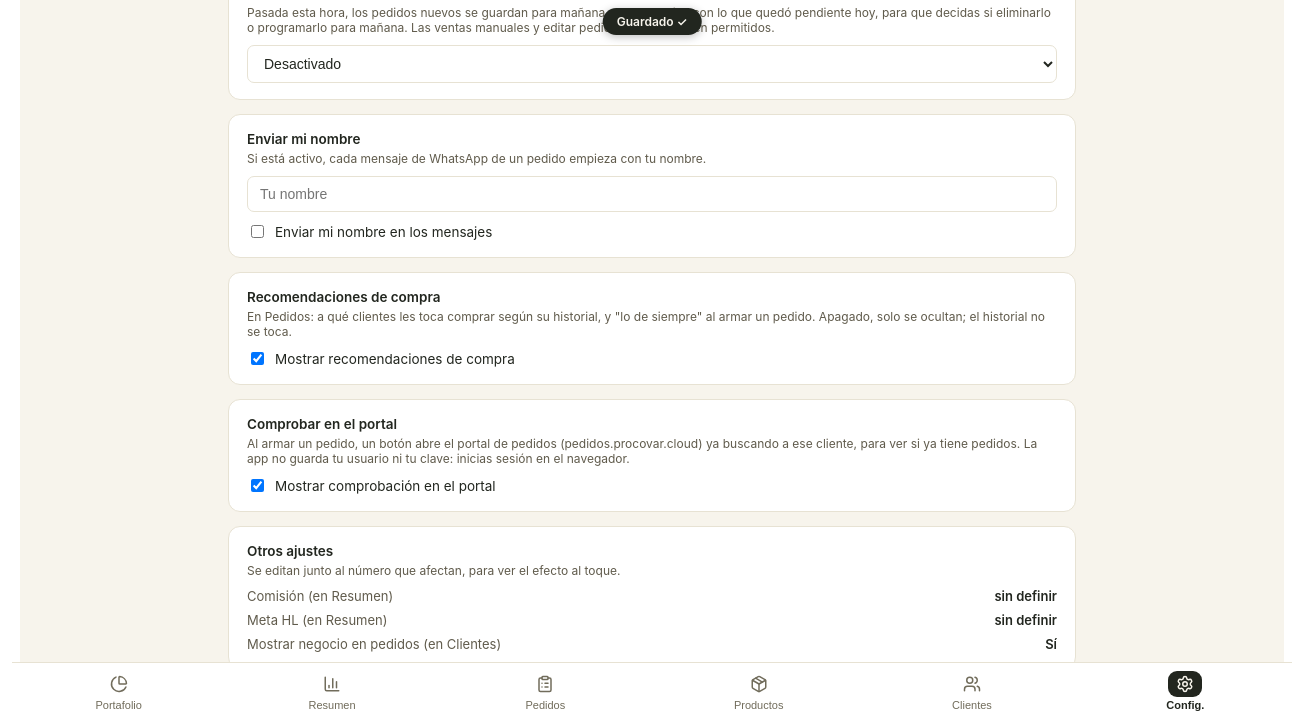
Interruptor de recomendaciones de compra › apagarlo desde Configuración lo guarda y quita la tarjeta de Pedidos
This screenshot has width=1304, height=718.
(page scrolled)
Click the checkbox labelled "Mostrar recomendaciones de compra".
click(258, 358)  # box [251, 352, 264, 365]
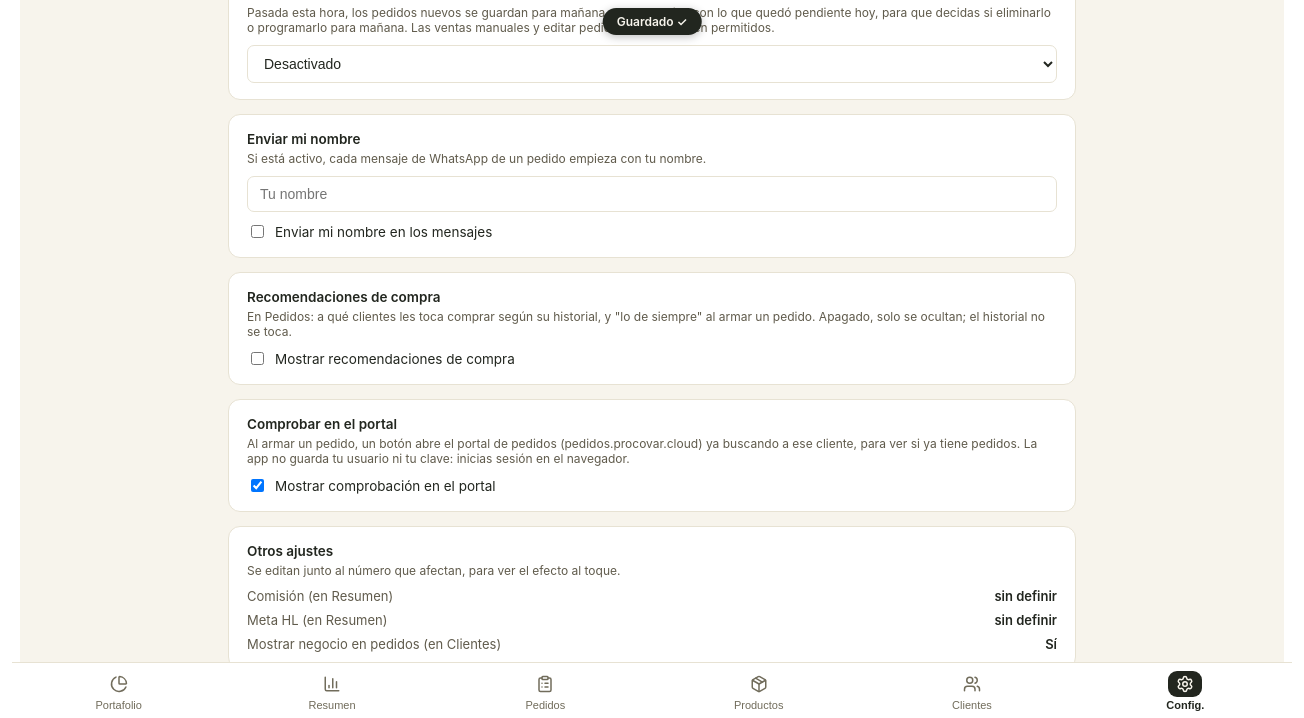
Click the button "Pedidos".
click(545, 690)  # box [439, 663, 652, 717]
(page scrolled)
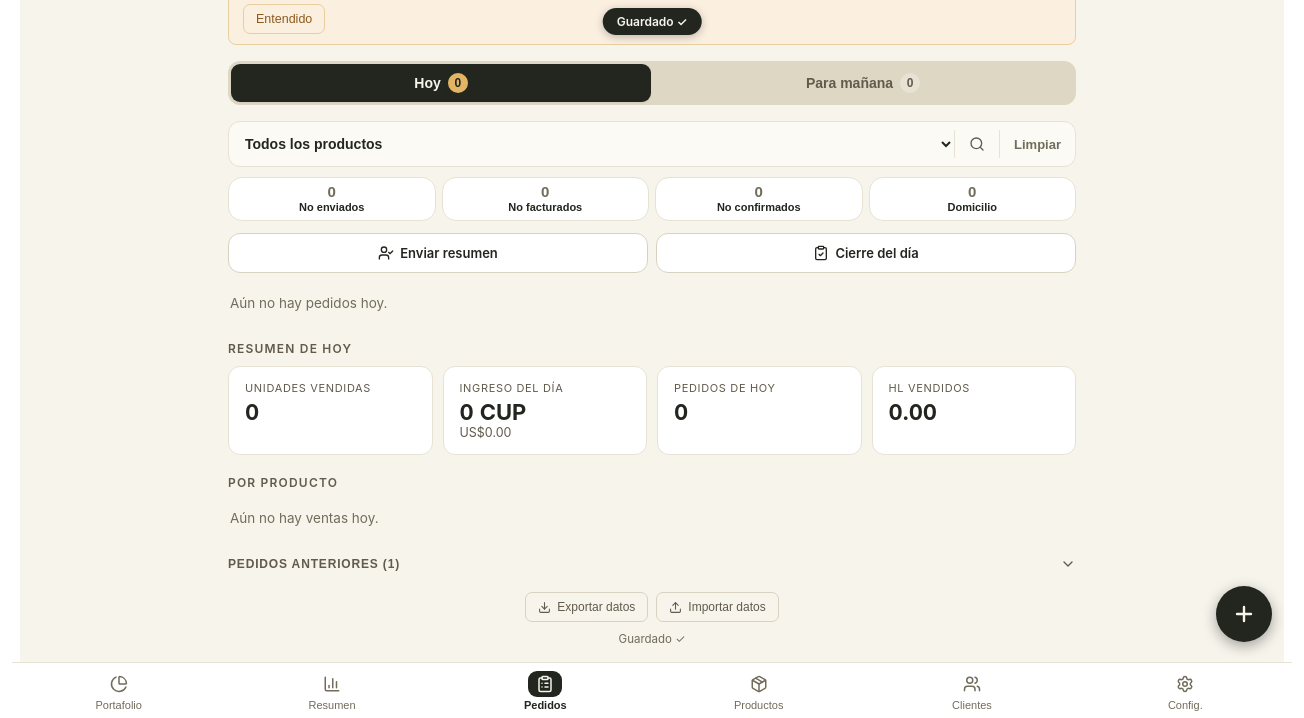
Check: the button "Cierre del día" is shown, box [656, 233, 1076, 273]
